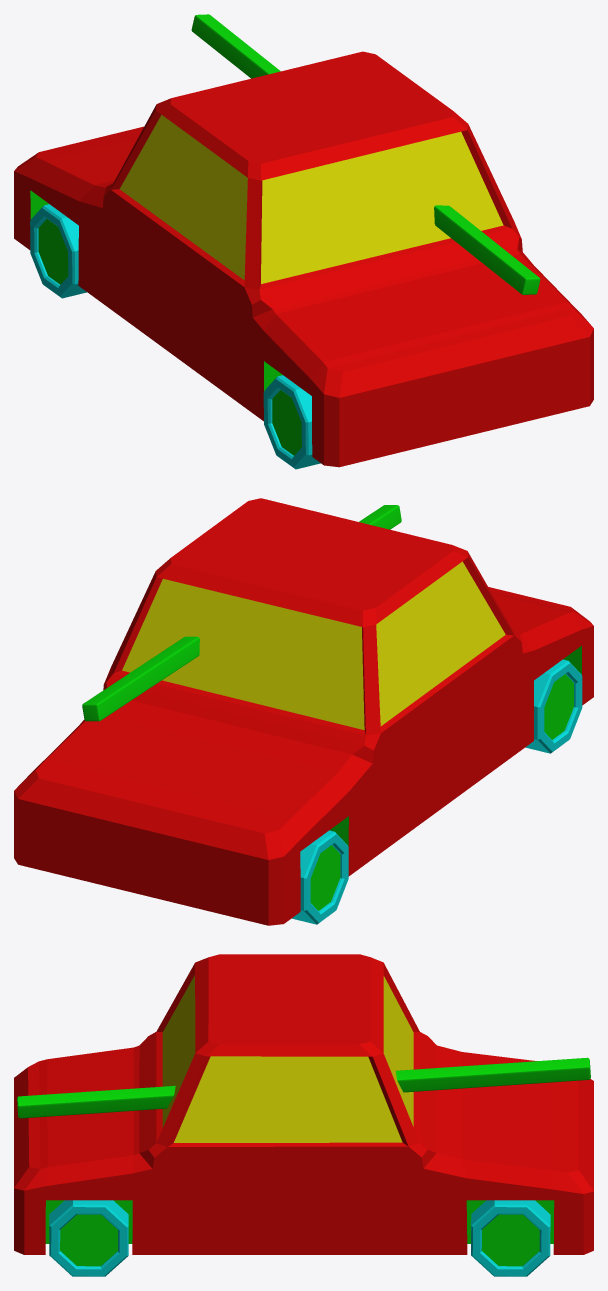
The model's file is WreckedCarB.fbx.
The picture shows the model from 3 angles, top to bottom: view 1: azimuth 30°, elevation 25°; view 2: azimuth 150°, elevation 25°; view 3: azimuth 270°, elevation 25°; orthographic projection. The views are drawn at different scales.
Visible parts, largest first — view 1: WreckedCarB; view 2: WreckedCarB; view 3: WreckedCarB.
Part boxes in pixels (<box>): WreckedCarB: <box>14,14,593,469</box>; WreckedCarB: <box>14,498,593,925</box>; WreckedCarB: <box>14,954,593,1276</box>.
Size of the model in its own units: 1.81 by 1.51 by 3.64.
